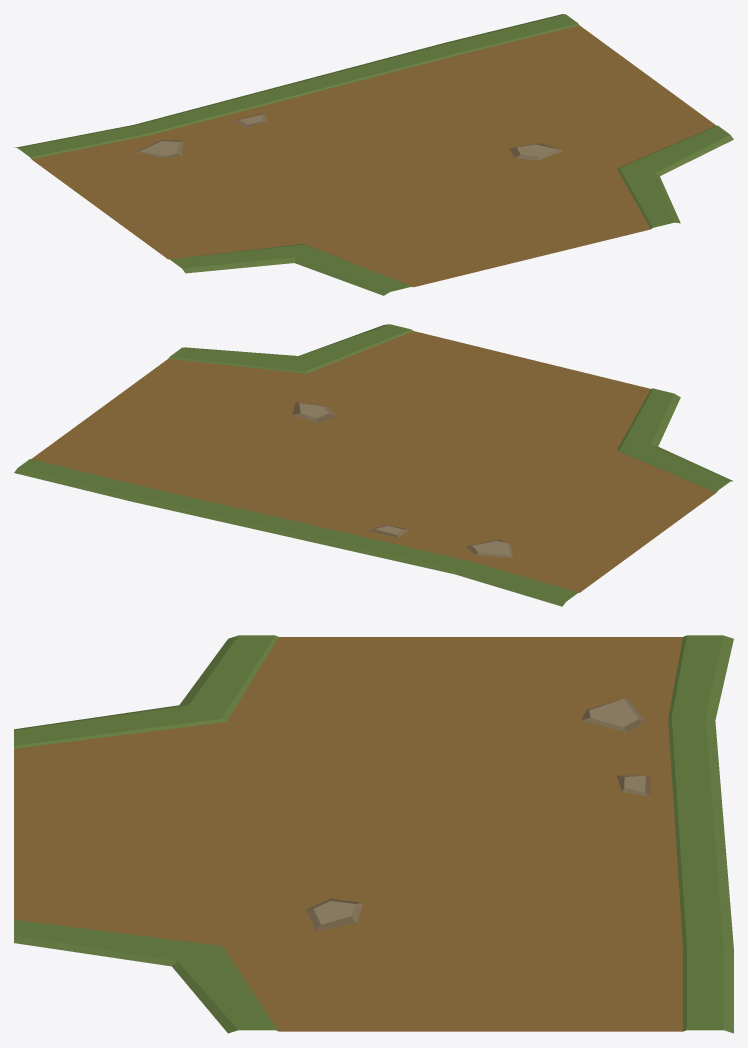
The model's file is Path_Intersection_02.gltf.
3 renders of one model, top to bottom at view 1: azimuth 30°, elevation 25°; view 2: azimuth 150°, elevation 25°; view 3: azimuth 270°, elevation 25°, orthographic. The views are drawn at different scales.
Visible parts, largest first — view 1: SF_Env_Path_Intersection_02; view 2: SF_Env_Path_Intersection_02; view 3: SF_Env_Path_Intersection_02.
Boxes of the visible parts, x1,y1,x2,y2 form: SF_Env_Path_Intersection_02: (14, 14, 733, 295); SF_Env_Path_Intersection_02: (14, 324, 733, 606); SF_Env_Path_Intersection_02: (14, 635, 733, 1033).
Size of the model in its own units: 0.1 by 0.000509 by 0.0771.
1 material, 1 textured.
